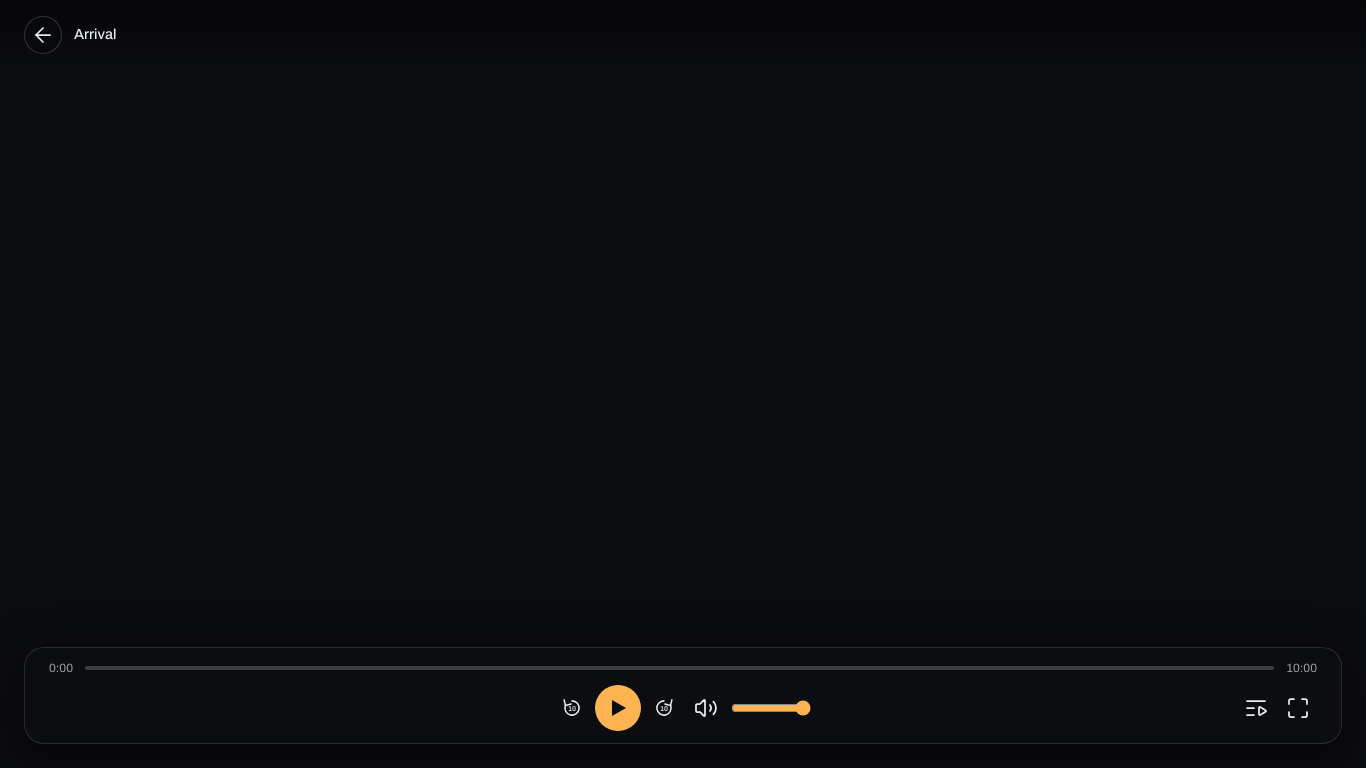
Test: PlayerControls — chapters › opens the chapter list from the Chapters button and seeks + closes on a click
Check: the text "Midpoint" is not shown
Step 1. Click the button named "Chapters" → {"x": 1256, "y": 708}, box [1237,689,1275,727]
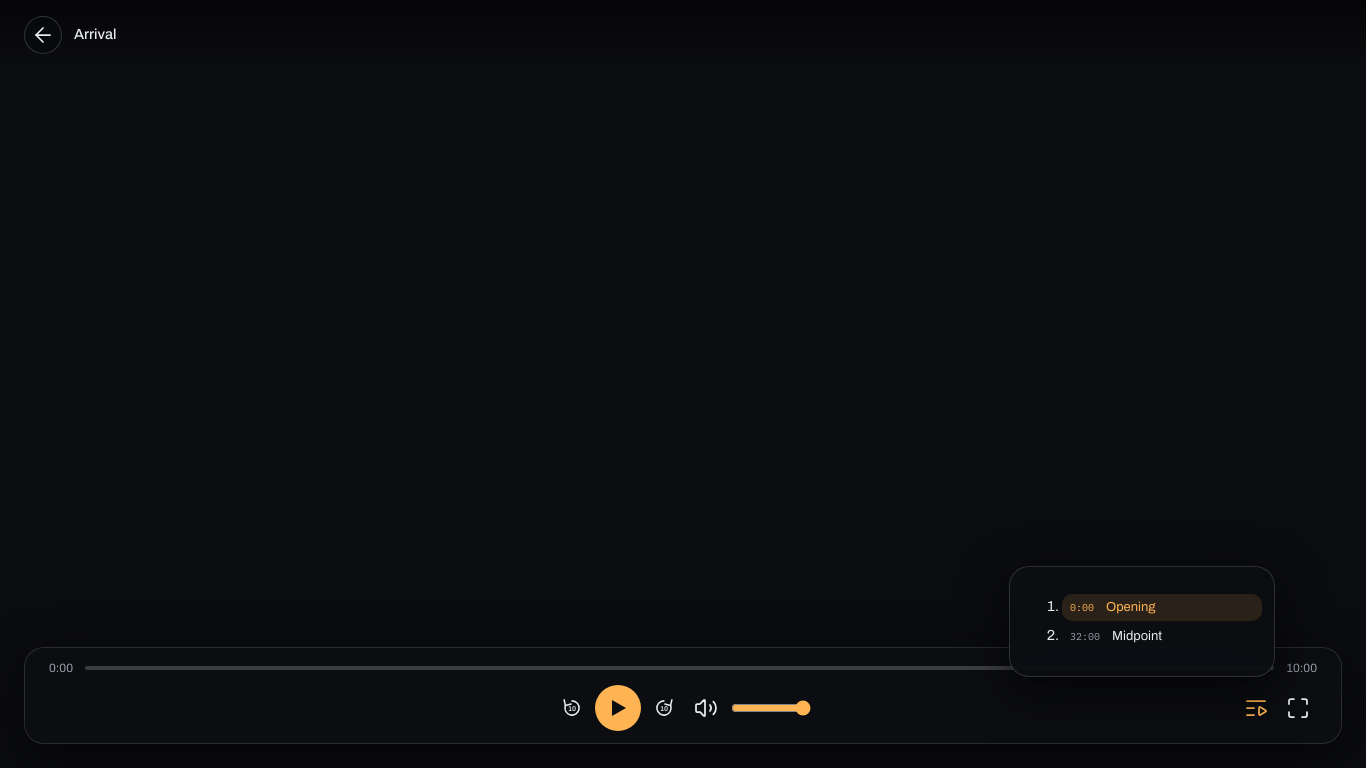
Check: the text "Opening" is shown, box [1106,598,1156,617]
Check: the text "Midpoint" is shown, box [1112,627,1162,646]
Check: the button "32:00 Midpoint" is shown
Step 2. Click the button "32:00 Midpoint" → {"x": 1162, "y": 636}, box [1062,623,1262,650]
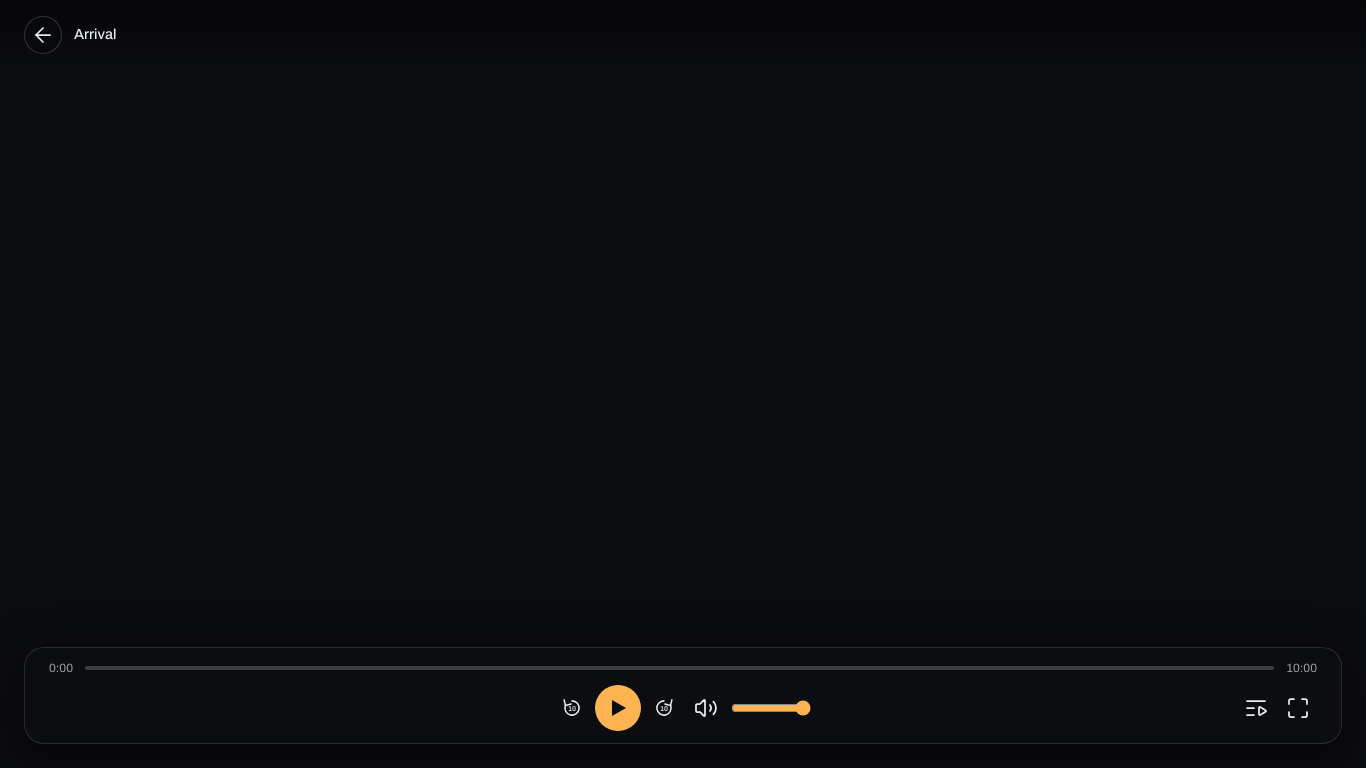
Check: the text "Midpoint" is gone
